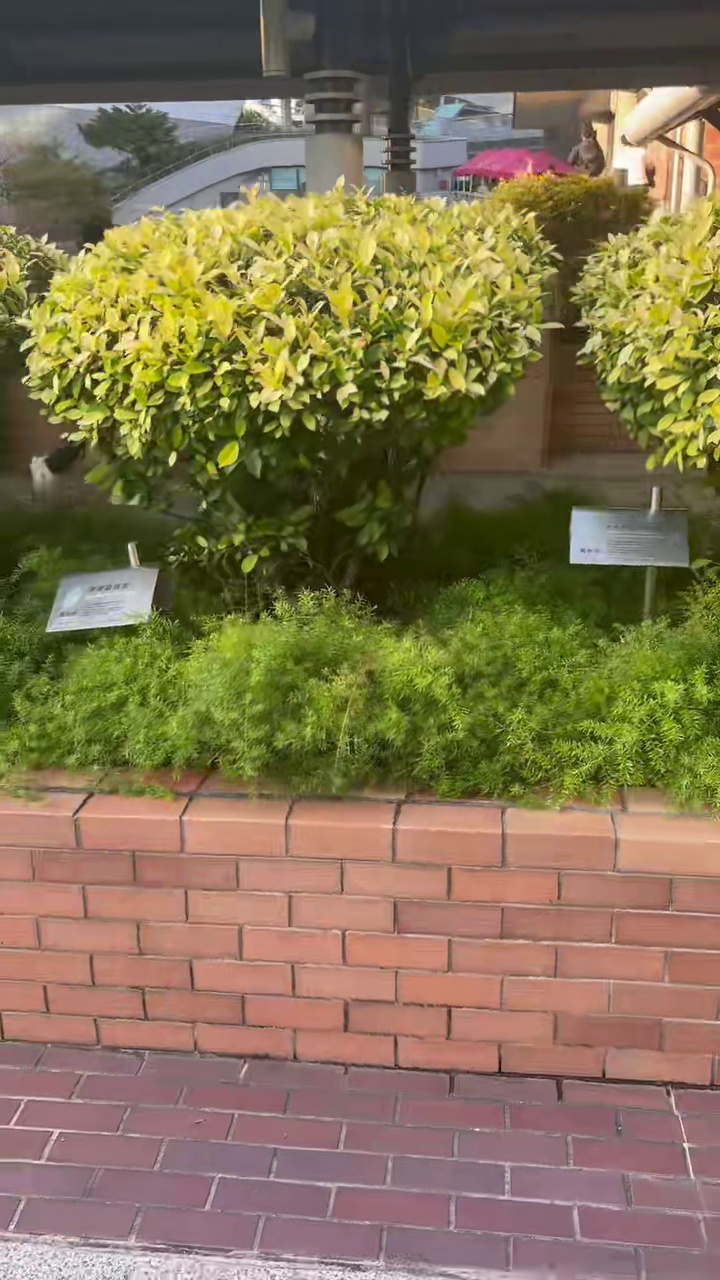Golden-leaves Fig: (26, 188, 553, 584)
